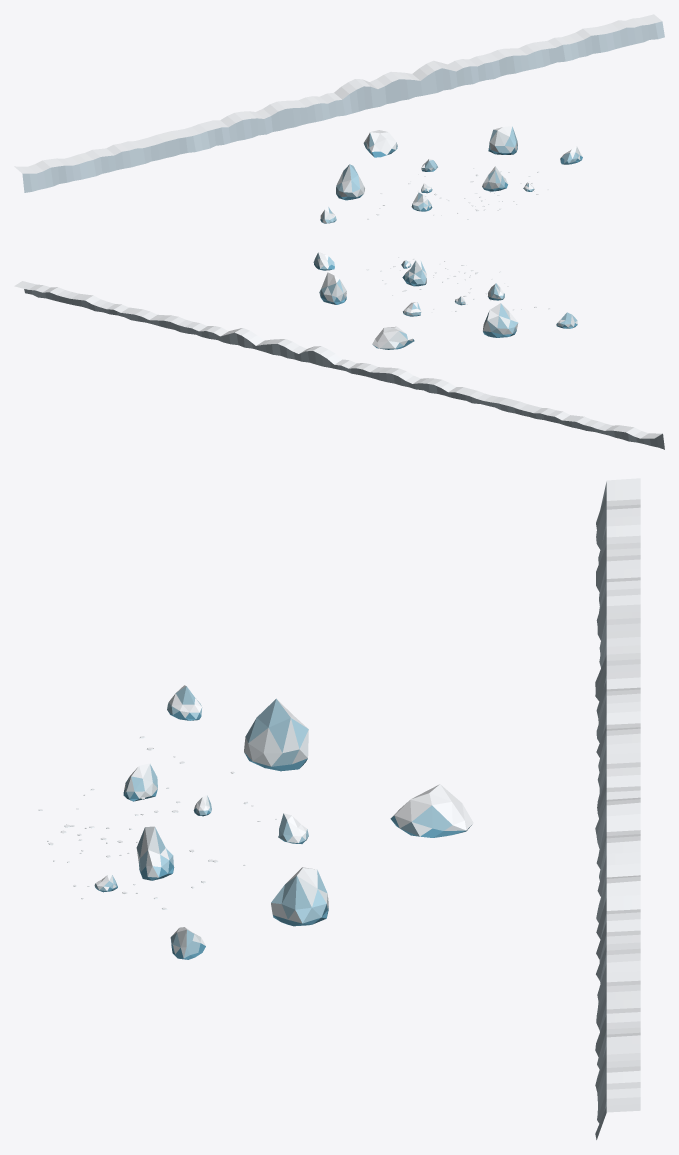
The model's file is stage3-scenery.glb.
3 renders of one model, top to bottom at view 1: azimuth 30°, elevation 25°; view 2: azimuth 150°, elevation 25°; view 3: azimuth 270°, elevation 25°, orthographic. The views are drawn at different scales.
Parts seen in each view (by area): view 1: Icebergs_Mesh; view 2: Icebergs_Mesh; view 3: Icebergs_Mesh.
Boxes of the visible parts, x1=… form: Icebergs_Mesh: x1=14, y1=14, x2=664, y2=223; Icebergs_Mesh: x1=14, y1=252, x2=664, y2=449; Icebergs_Mesh: x1=94, y1=478, x2=640, y2=1139.
Size of the model in its own units: 2800 by 134 by 1141.
